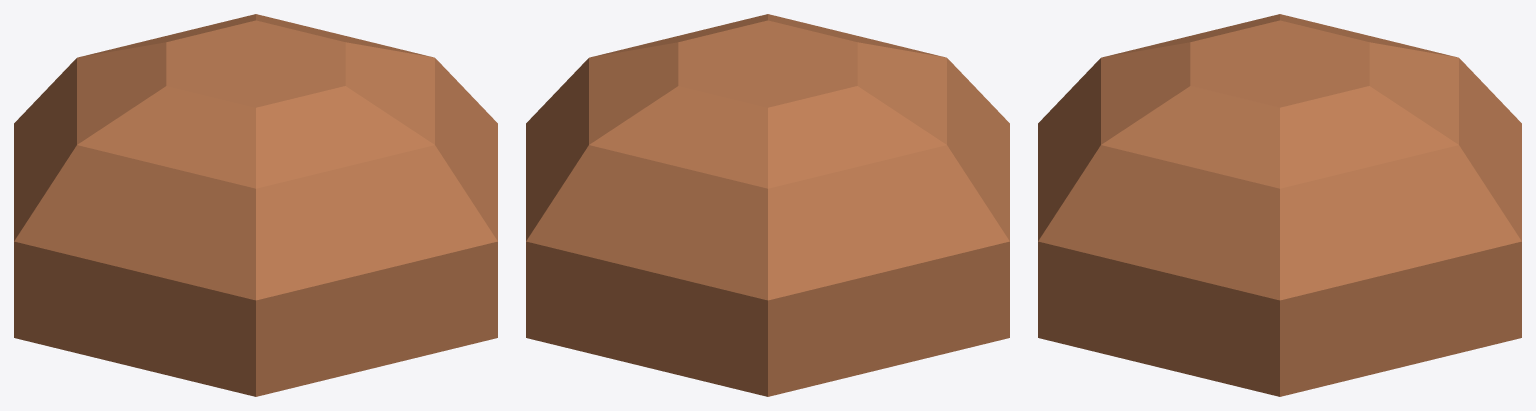
File: meteorHalf.glb
3 renders of one model, left to right at view 1: azimuth 30°, elevation 25°; view 2: azimuth 150°, elevation 25°; view 3: azimuth 270°, elevation 25°, orthographic.
Visible parts, largest first — view 1: meteorHalf; view 2: meteorHalf; view 3: meteorHalf.
Boxes of the visible parts, bbox=[...] form: meteorHalf: bbox=[14, 14, 497, 396]; meteorHalf: bbox=[526, 14, 1009, 396]; meteorHalf: bbox=[1038, 14, 1521, 396].
Bounding box in the file's own units: 11.55 × 4.9 × 10.
